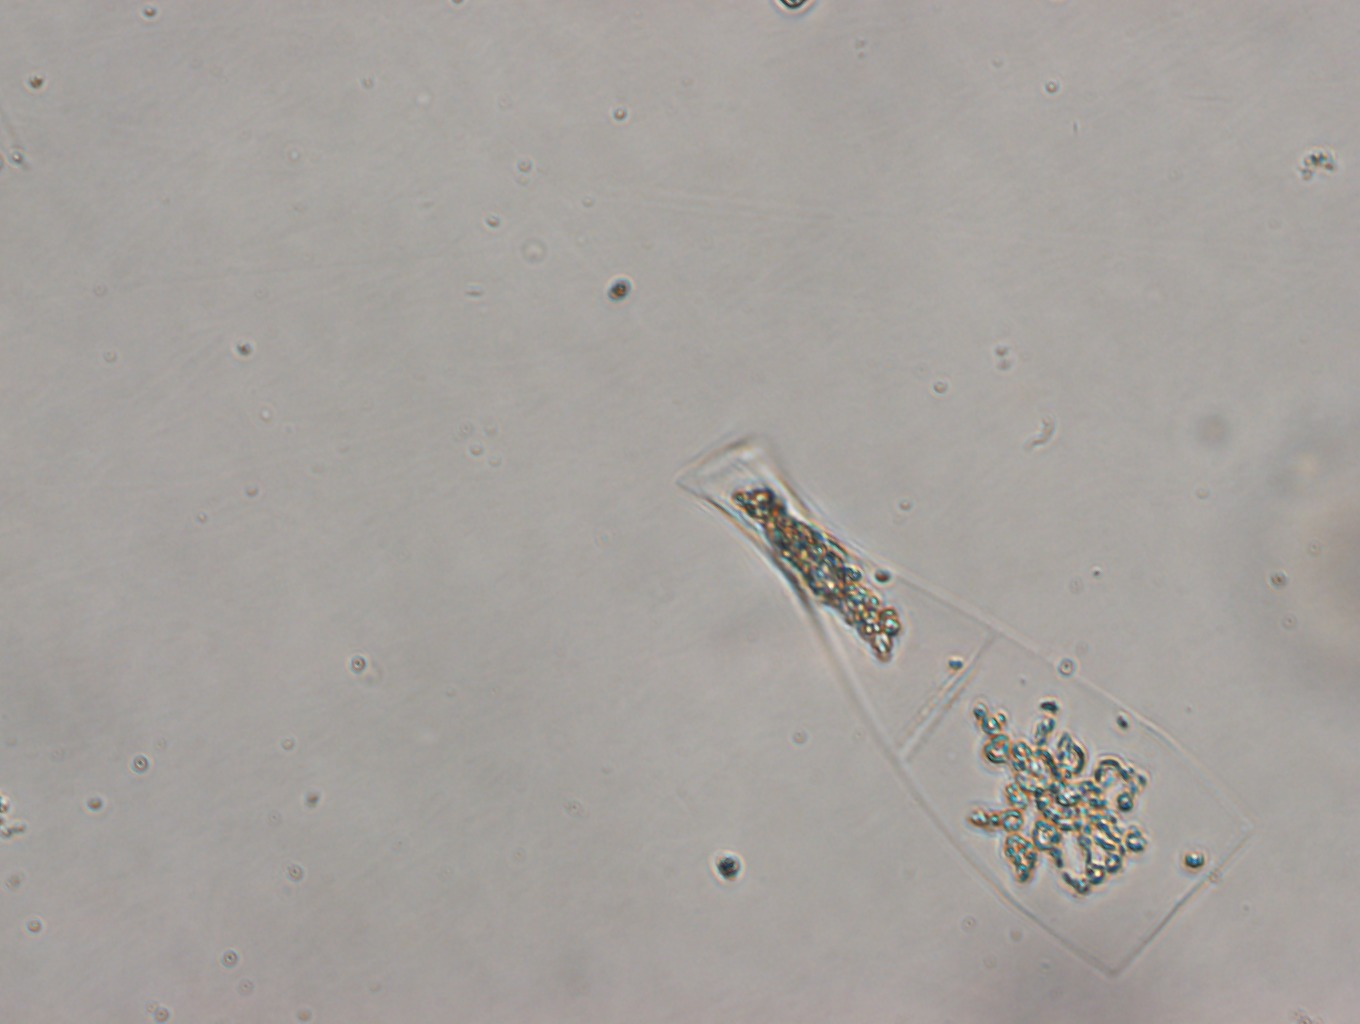helicotheca: (669, 419, 1264, 983)
